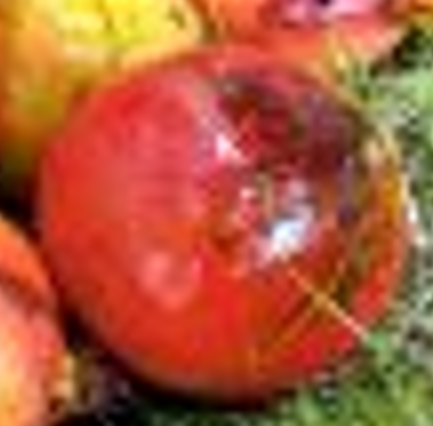pomegranate_C: (31, 42, 418, 403)
